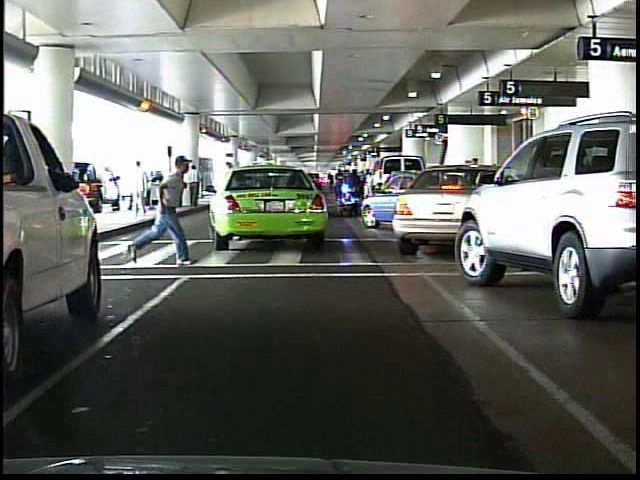person: (140, 151, 192, 270)
